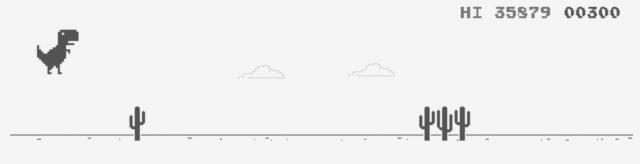cactus: (437, 107, 452, 140), (455, 107, 470, 140), (130, 107, 145, 140), (420, 107, 435, 140)
cloud: (349, 63, 395, 76), (238, 66, 285, 78)
dinosaur: (38, 30, 78, 74)
